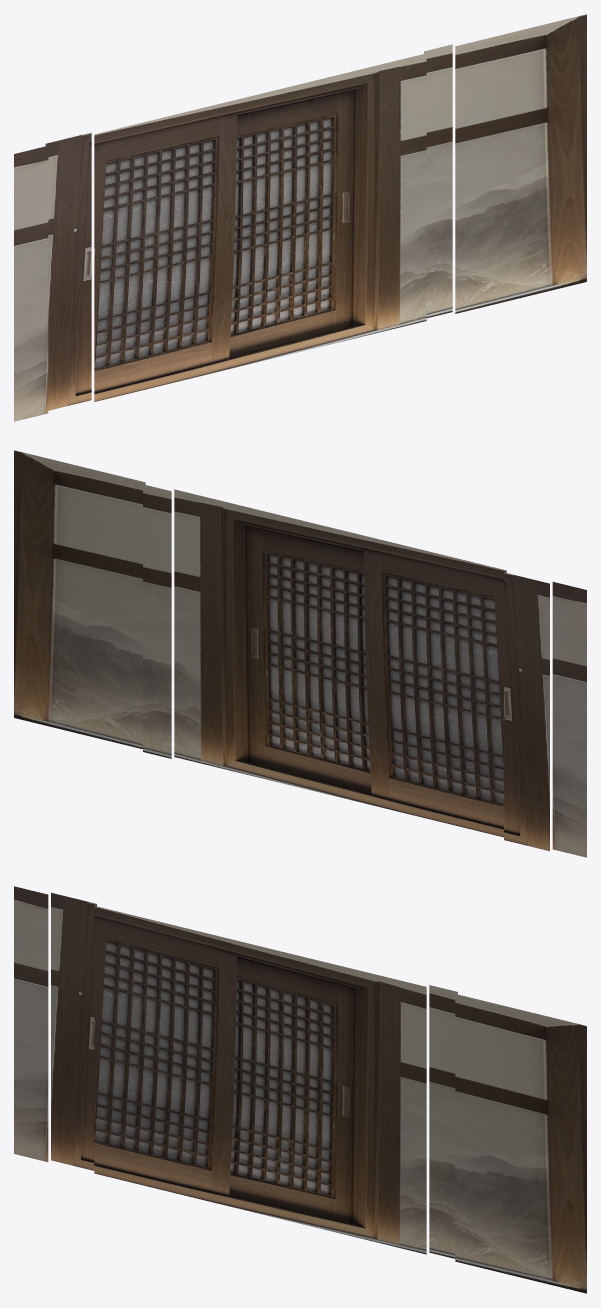
The model's file is facade.glb.
3 renders of one model, top to bottom at view 1: azimuth 30°, elevation 25°; view 2: azimuth 150°, elevation 25°; view 3: azimuth 330°, elevation 25°, orthographic.
Visible parts, largest first — view 1: PHOTO_LatticeDoor, PHOTO_LandscapeWall, PHOTO_ColumnRight, PHOTO_RightPanel, PHOTO_ColumnLeft; view 2: PHOTO_LatticeDoor, PHOTO_LandscapeWall, PHOTO_ColumnRight, PHOTO_RightPanel, PHOTO_ColumnLeft; view 3: PHOTO_LatticeDoor, PHOTO_LandscapeWall, PHOTO_ColumnRight, PHOTO_RightPanel, PHOTO_ColumnLeft.
Boxes of the visible parts, left/top/right/bottom form: PHOTO_LatticeDoor: left=94, top=53, right=426, bottom=401; PHOTO_LandscapeWall: left=455, top=14, right=586, bottom=313; PHOTO_ColumnRight: left=45, top=132, right=91, bottom=410; PHOTO_RightPanel: left=14, top=146, right=48, bottom=421; PHOTO_ColumnLeft: left=424, top=44, right=452, bottom=318; PHOTO_LatticeDoor: left=174, top=489, right=506, bottom=837; PHOTO_LandscapeWall: left=14, top=450, right=145, bottom=749; PHOTO_ColumnRight: left=504, top=572, right=549, bottom=851; PHOTO_RightPanel: left=552, top=582, right=586, bottom=857; PHOTO_ColumnLeft: left=143, top=484, right=171, bottom=758; PHOTO_LatticeDoor: left=94, top=906, right=426, bottom=1254; PHOTO_LandscapeWall: left=455, top=994, right=586, bottom=1293; PHOTO_ColumnRight: left=51, top=892, right=96, bottom=1170; PHOTO_RightPanel: left=14, top=886, right=48, bottom=1161; PHOTO_ColumnLeft: left=429, top=985, right=457, bottom=1258.
Size of the model in its own units: 5.6 by 2.5 by 0.045.
Materials: 1 (1 with a texture image).
